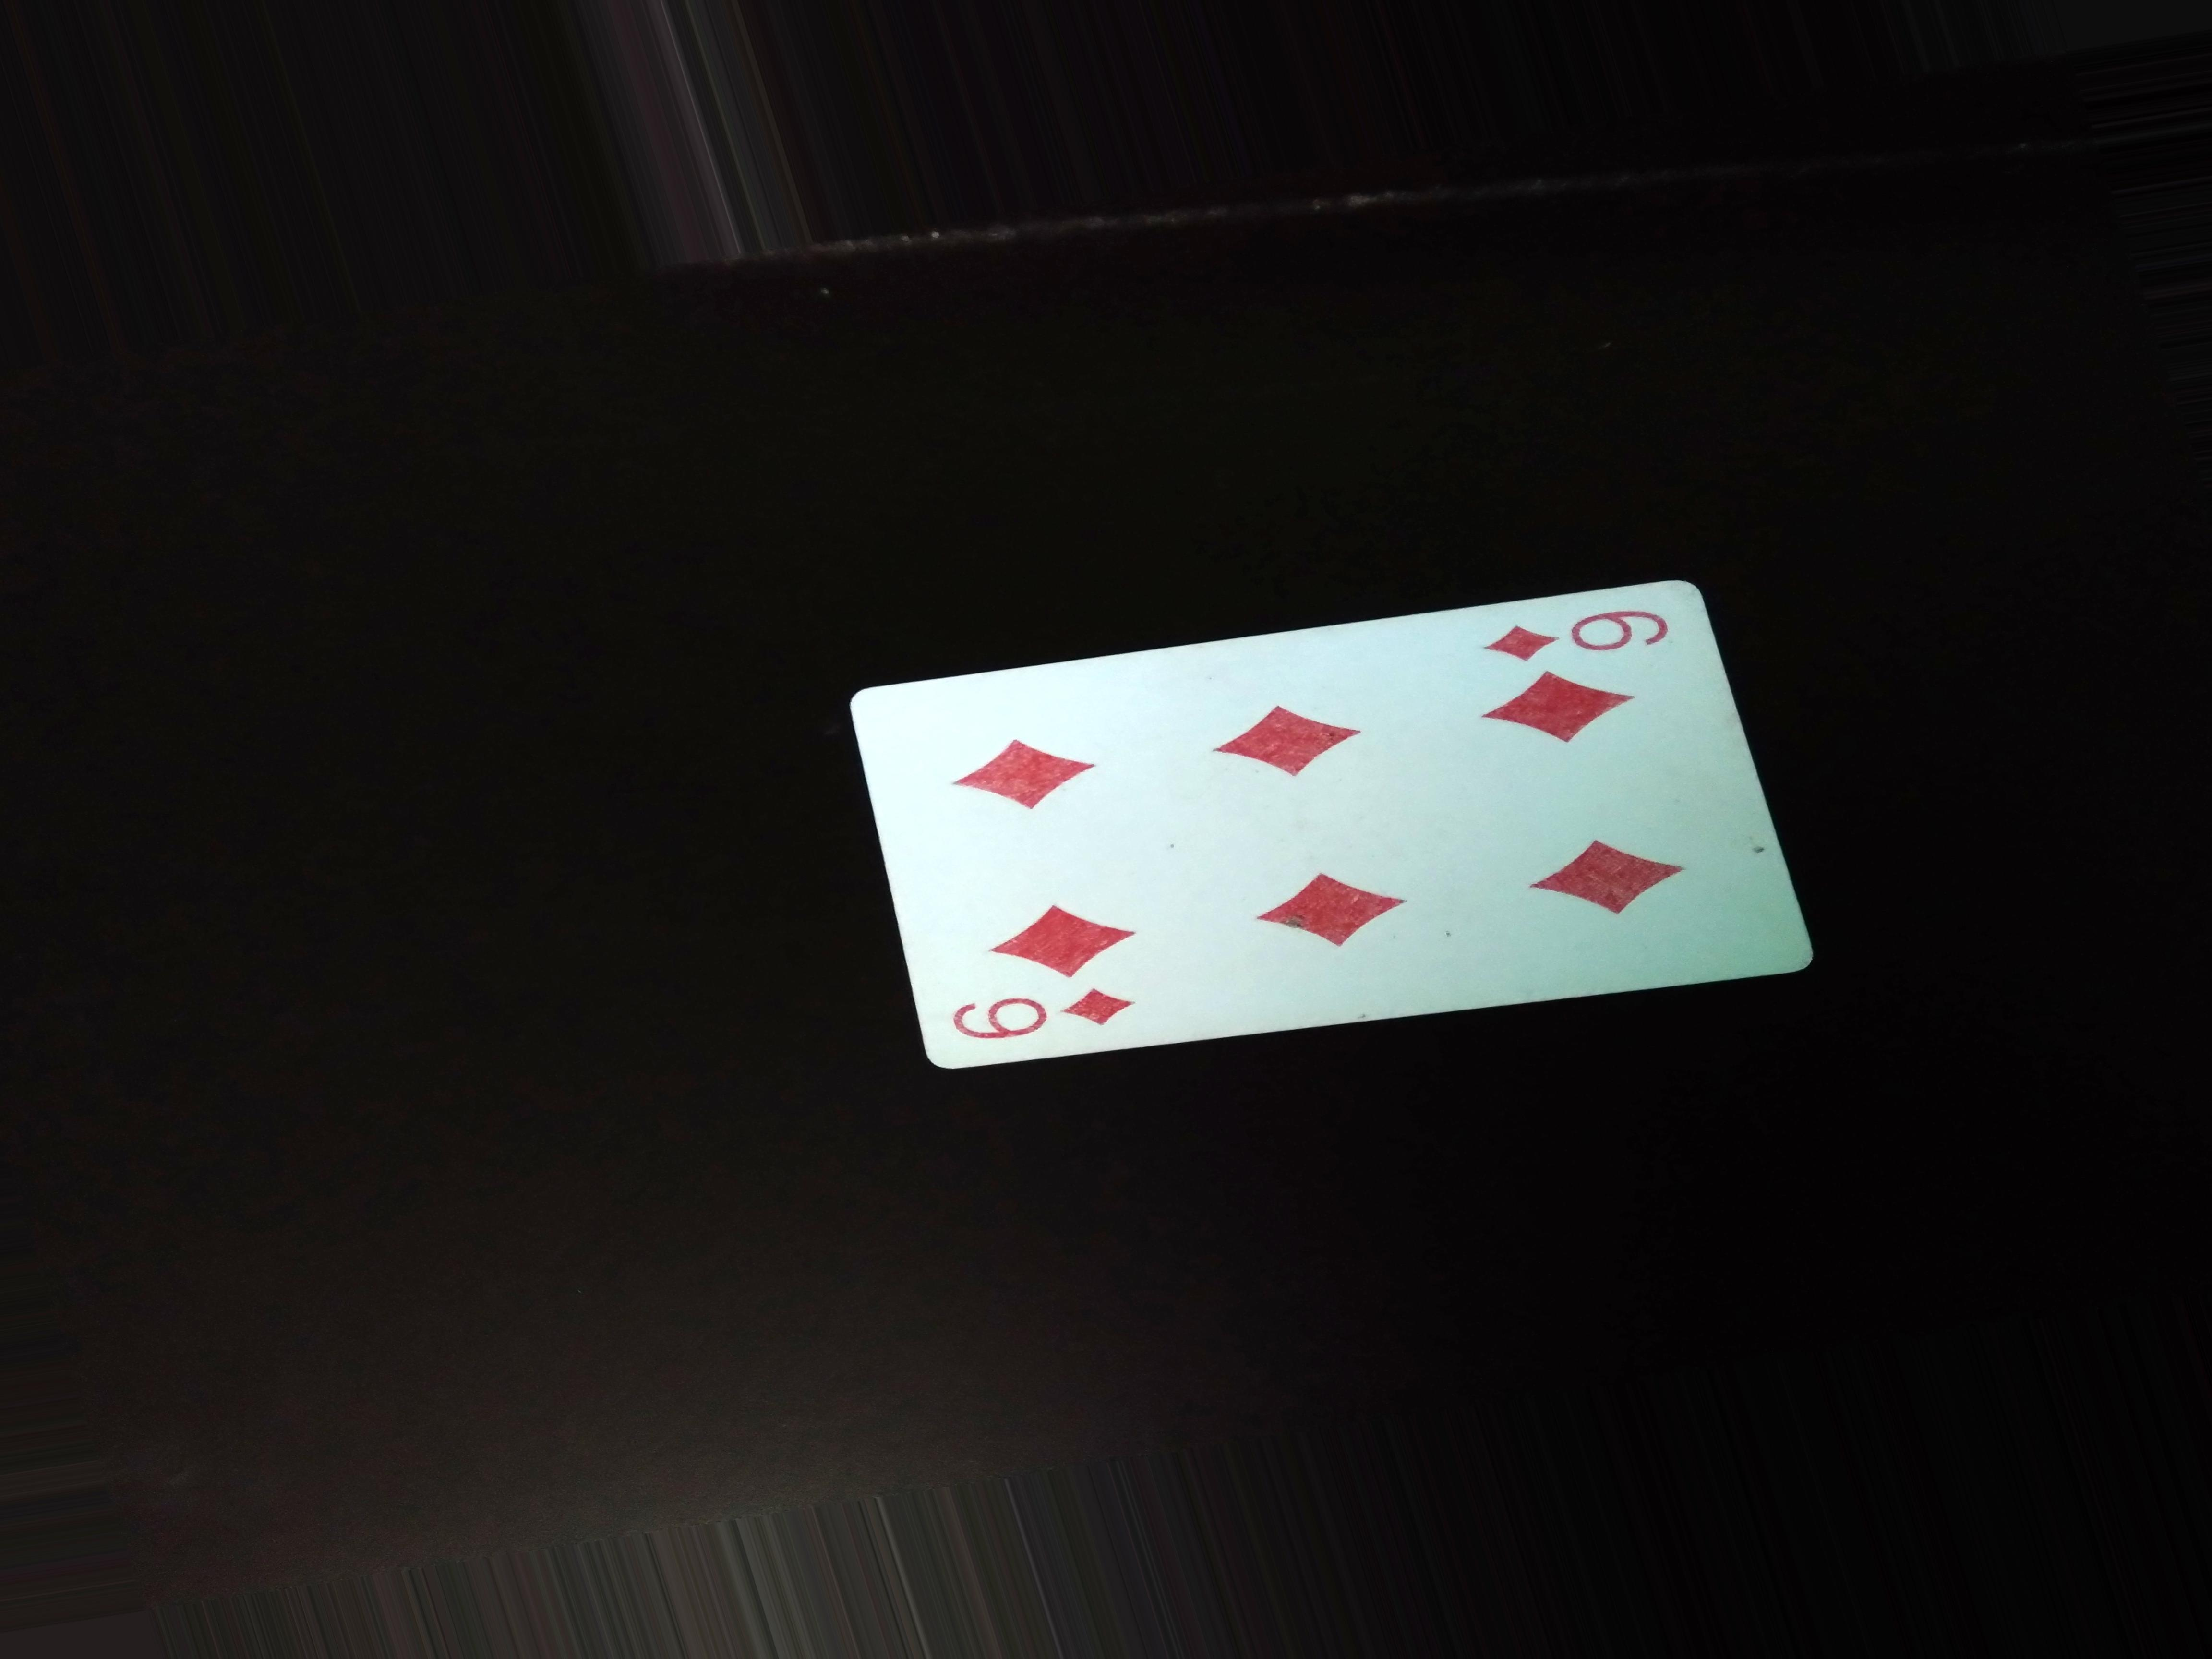6D: (930, 999, 1148, 1054)
